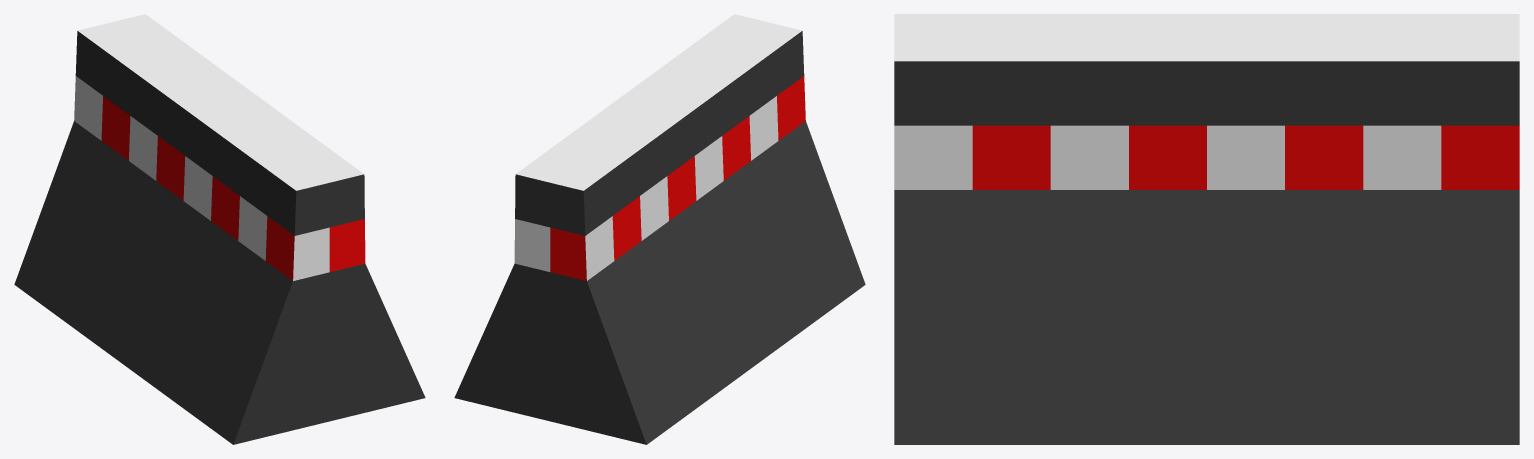
The model's file is obs.obj.
The picture shows the model from 3 angles, left to right: view 1: azimuth 30°, elevation 25°; view 2: azimuth 150°, elevation 25°; view 3: azimuth 270°, elevation 25°; orthographic projection. The views are drawn at different scales.
Parts seen in each view (by area): view 1: Mesh1 Model; view 2: Mesh1 Model; view 3: Mesh1 Model.
Part boxes in pixels (<box>): Mesh1 Model: <box>14,14,425,444</box>; Mesh1 Model: <box>454,14,865,444</box>; Mesh1 Model: <box>894,14,1519,444</box>.
Size of the model in its own units: 0.6588 by 0.7811 by 1.3.
